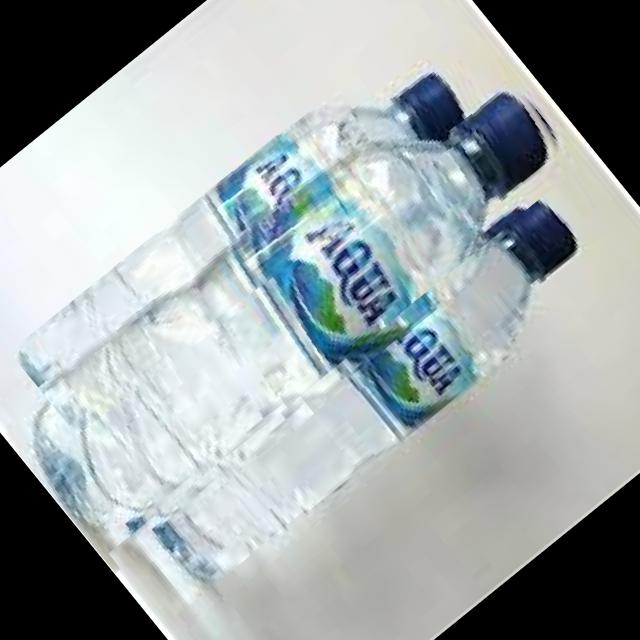plastic bottle: (3, 41, 614, 588), (105, 186, 625, 636), (9, 19, 498, 446)
